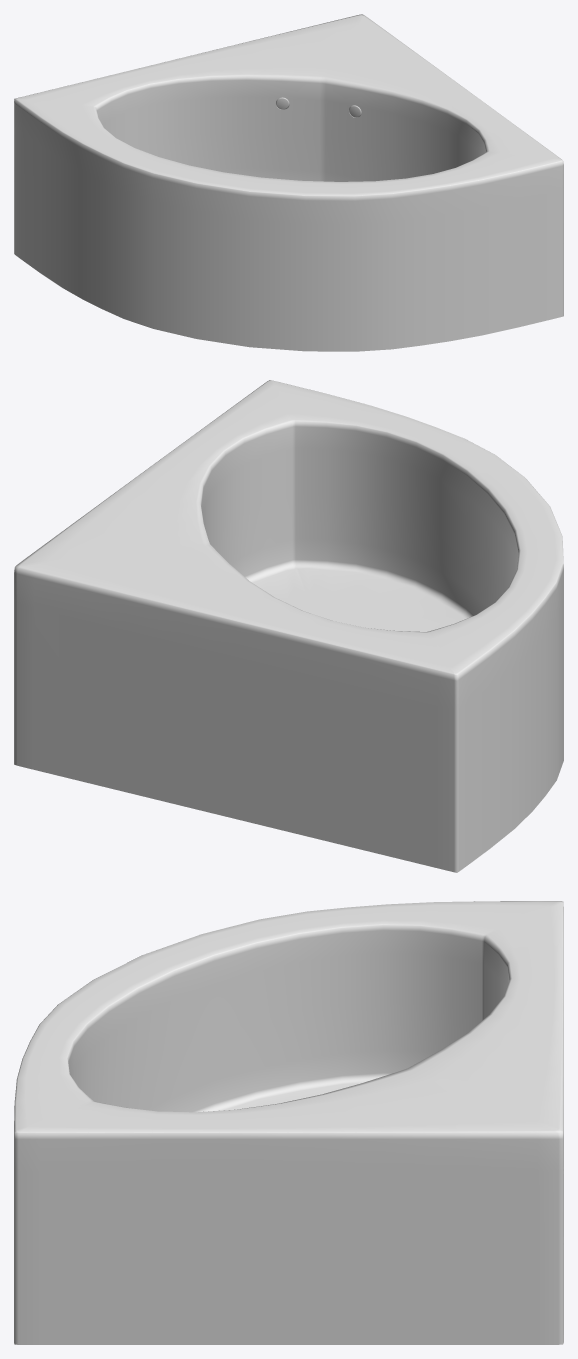
Rendered from bathtub_modern_06.glb.
3 renders of one model, top to bottom at view 1: azimuth 30°, elevation 25°; view 2: azimuth 150°, elevation 25°; view 3: azimuth 270°, elevation 25°, orthographic. The views are drawn at different scales.
Visible parts, largest first — view 1: Bathtub06; view 2: Bathtub06; view 3: Bathtub06.
Boxes of the visible parts, x1,y1,x2,y2 form: Bathtub06: [14, 14, 563, 351]; Bathtub06: [14, 380, 563, 872]; Bathtub06: [14, 901, 563, 1344].
Size of the model in its own units: 1.56 by 0.6648 by 1.56.
Materials: 1 (1 with a texture image).
